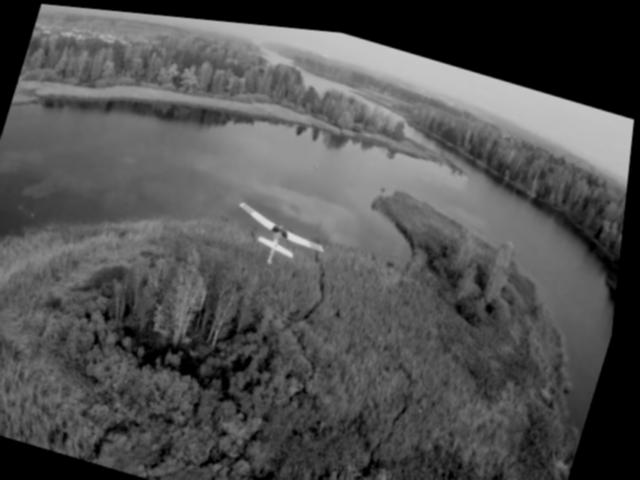hedef: (222, 186, 352, 273)
